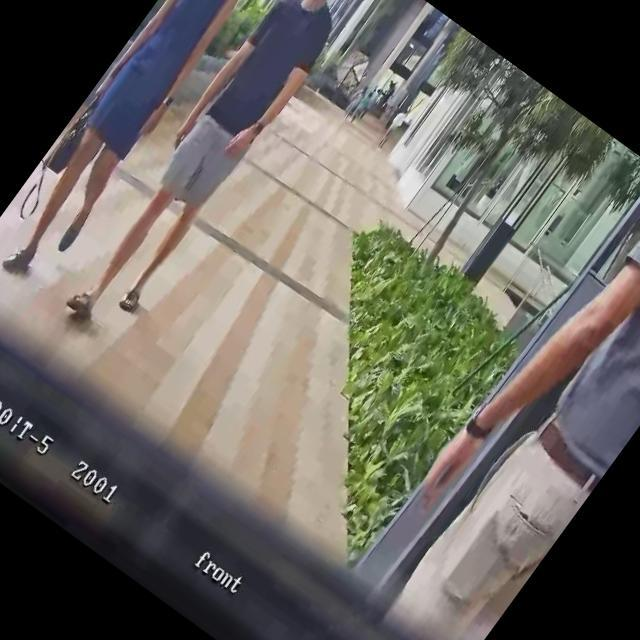person: (343, 163, 640, 640), (51, 0, 384, 346), (0, 0, 302, 292), (375, 104, 412, 150), (348, 84, 382, 125), (339, 81, 372, 121), (374, 82, 398, 110)
